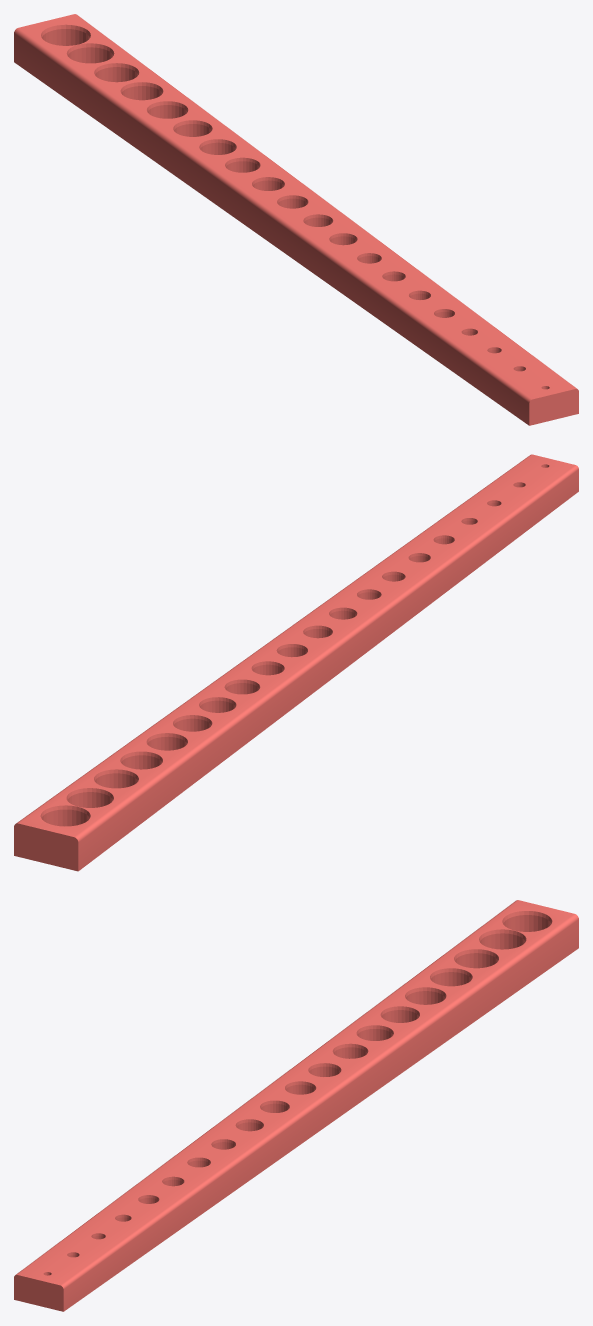
Rendered from RedPlatform.fbx.
3 renders of one model, top to bottom at view 1: azimuth 30°, elevation 25°; view 2: azimuth 150°, elevation 25°; view 3: azimuth 330°, elevation 25°, orthographic.
Visible parts, largest first — view 1: Cube.005; view 2: Cube.005; view 3: Cube.005.
Part boxes in pixels (left/top/right/bottom): Cube.005: left=14, top=14, right=578, bottom=425; Cube.005: left=14, top=454, right=578, bottom=871; Cube.005: left=14, top=900, right=578, bottom=1311.
Size of the model in its own units: 368 by 182 by 5035.
Materials: 1 (1 with a texture image).
